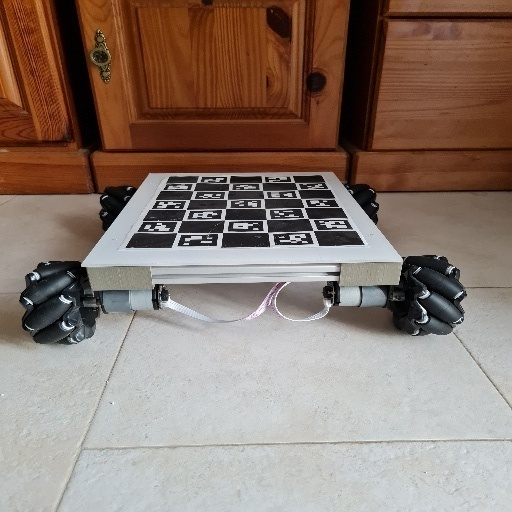Omniwheel: (21, 170, 467, 347)
